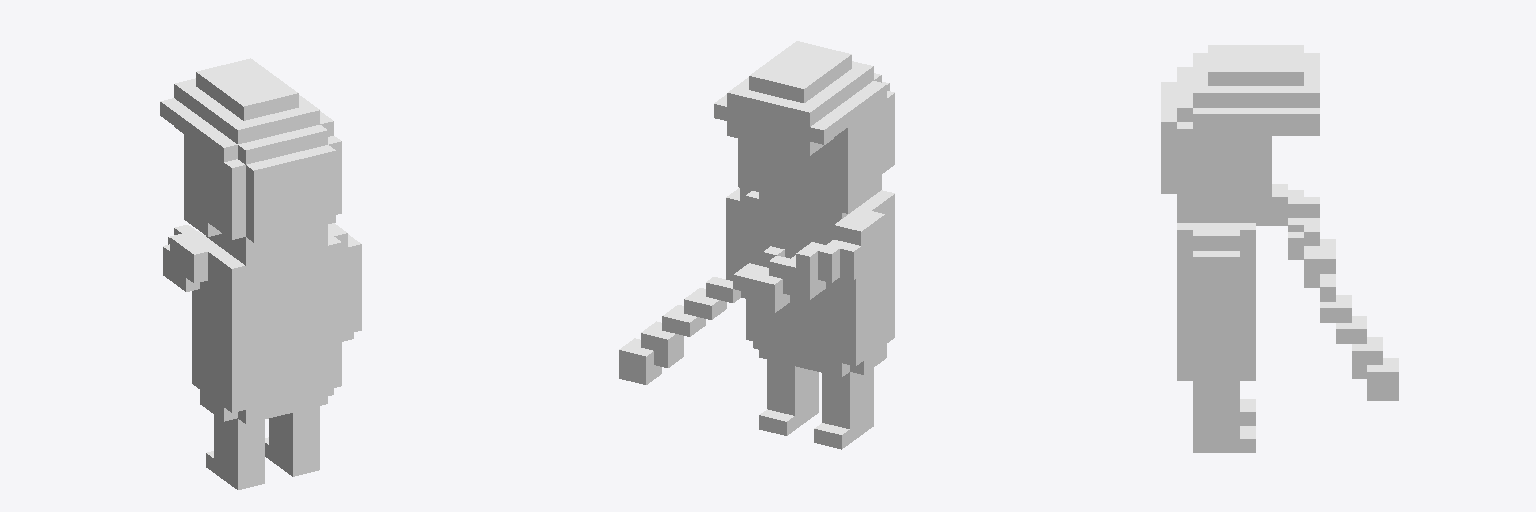
Rendered from Badboy_Bat_2.obj.
3 views of the same model, side by side, from view 1: azimuth 30°, elevation 25°; view 2: azimuth 150°, elevation 25°; view 3: azimuth 270°, elevation 25° (orthographic).
Visible parts, largest first — view 1: object 1; view 2: object 1; view 3: object 1.
Part boxes in pixels (x1,y1,x2,y2): object 1: (160,58,361,489); object 1: (619,41,894,449); object 1: (1161,45,1398,452).
Bounding box in the file's own units: 1.3 × 2.6 × 1.5.